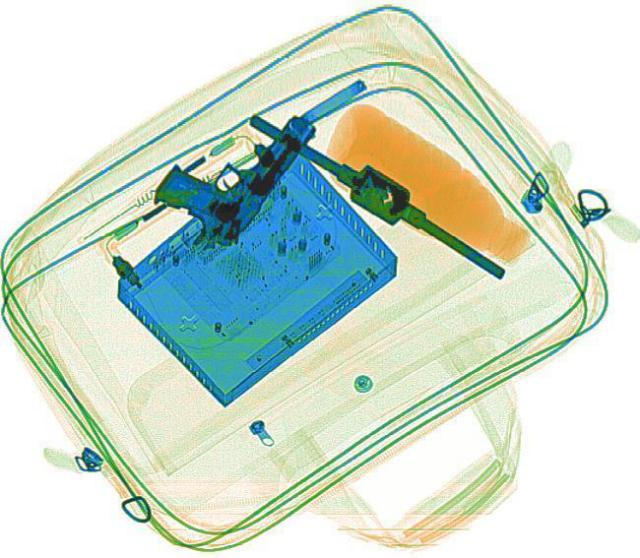Gun: (132, 86, 316, 259)
